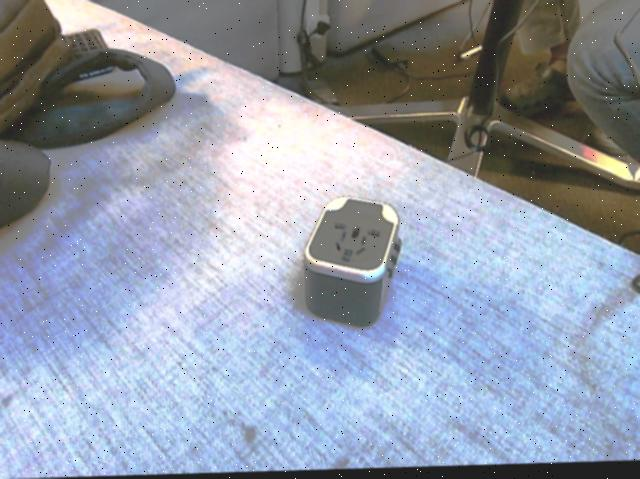adapter: (302, 196, 401, 330)
